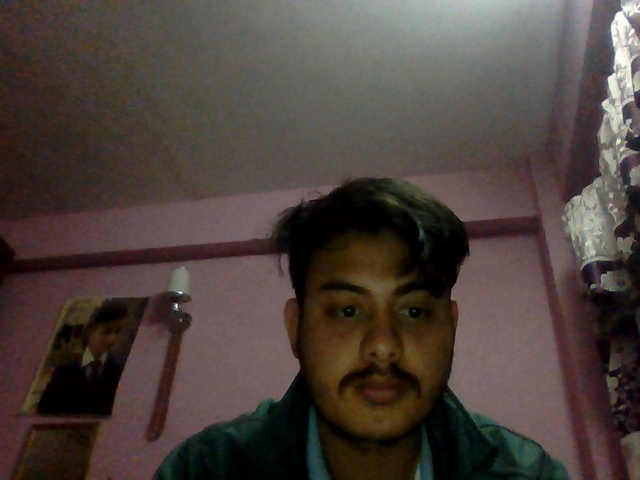no mask: (288, 331, 470, 460)
